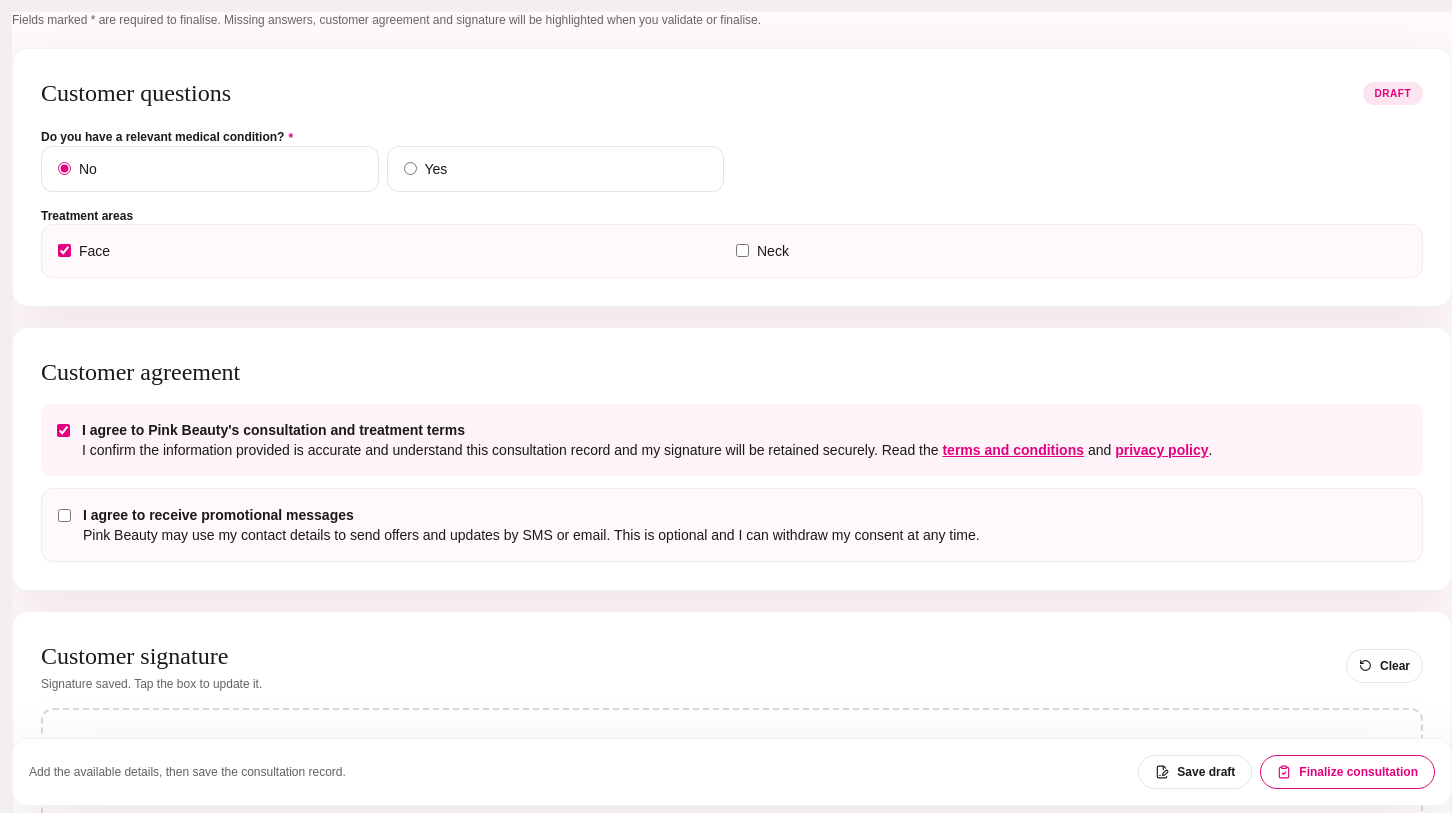
Test: consultation save recovery › handles non-JSON server failures and allows retry
The image size is (1452, 813).
Click the button "Finalize consultation" at (1348, 772), box [1260,755,1435,789]
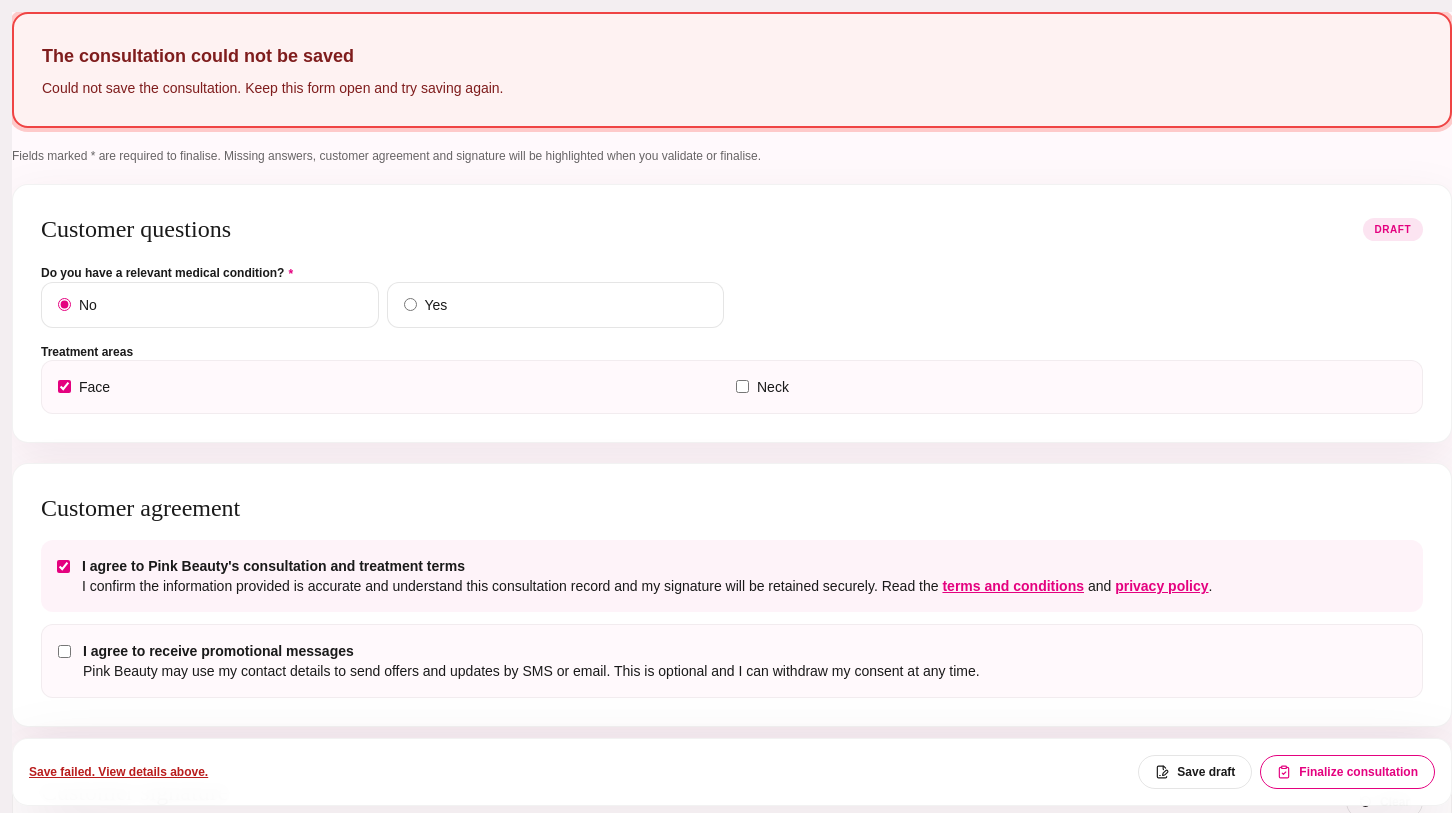
Now the message shows "Keep this form open", box [42,80,504,96]
